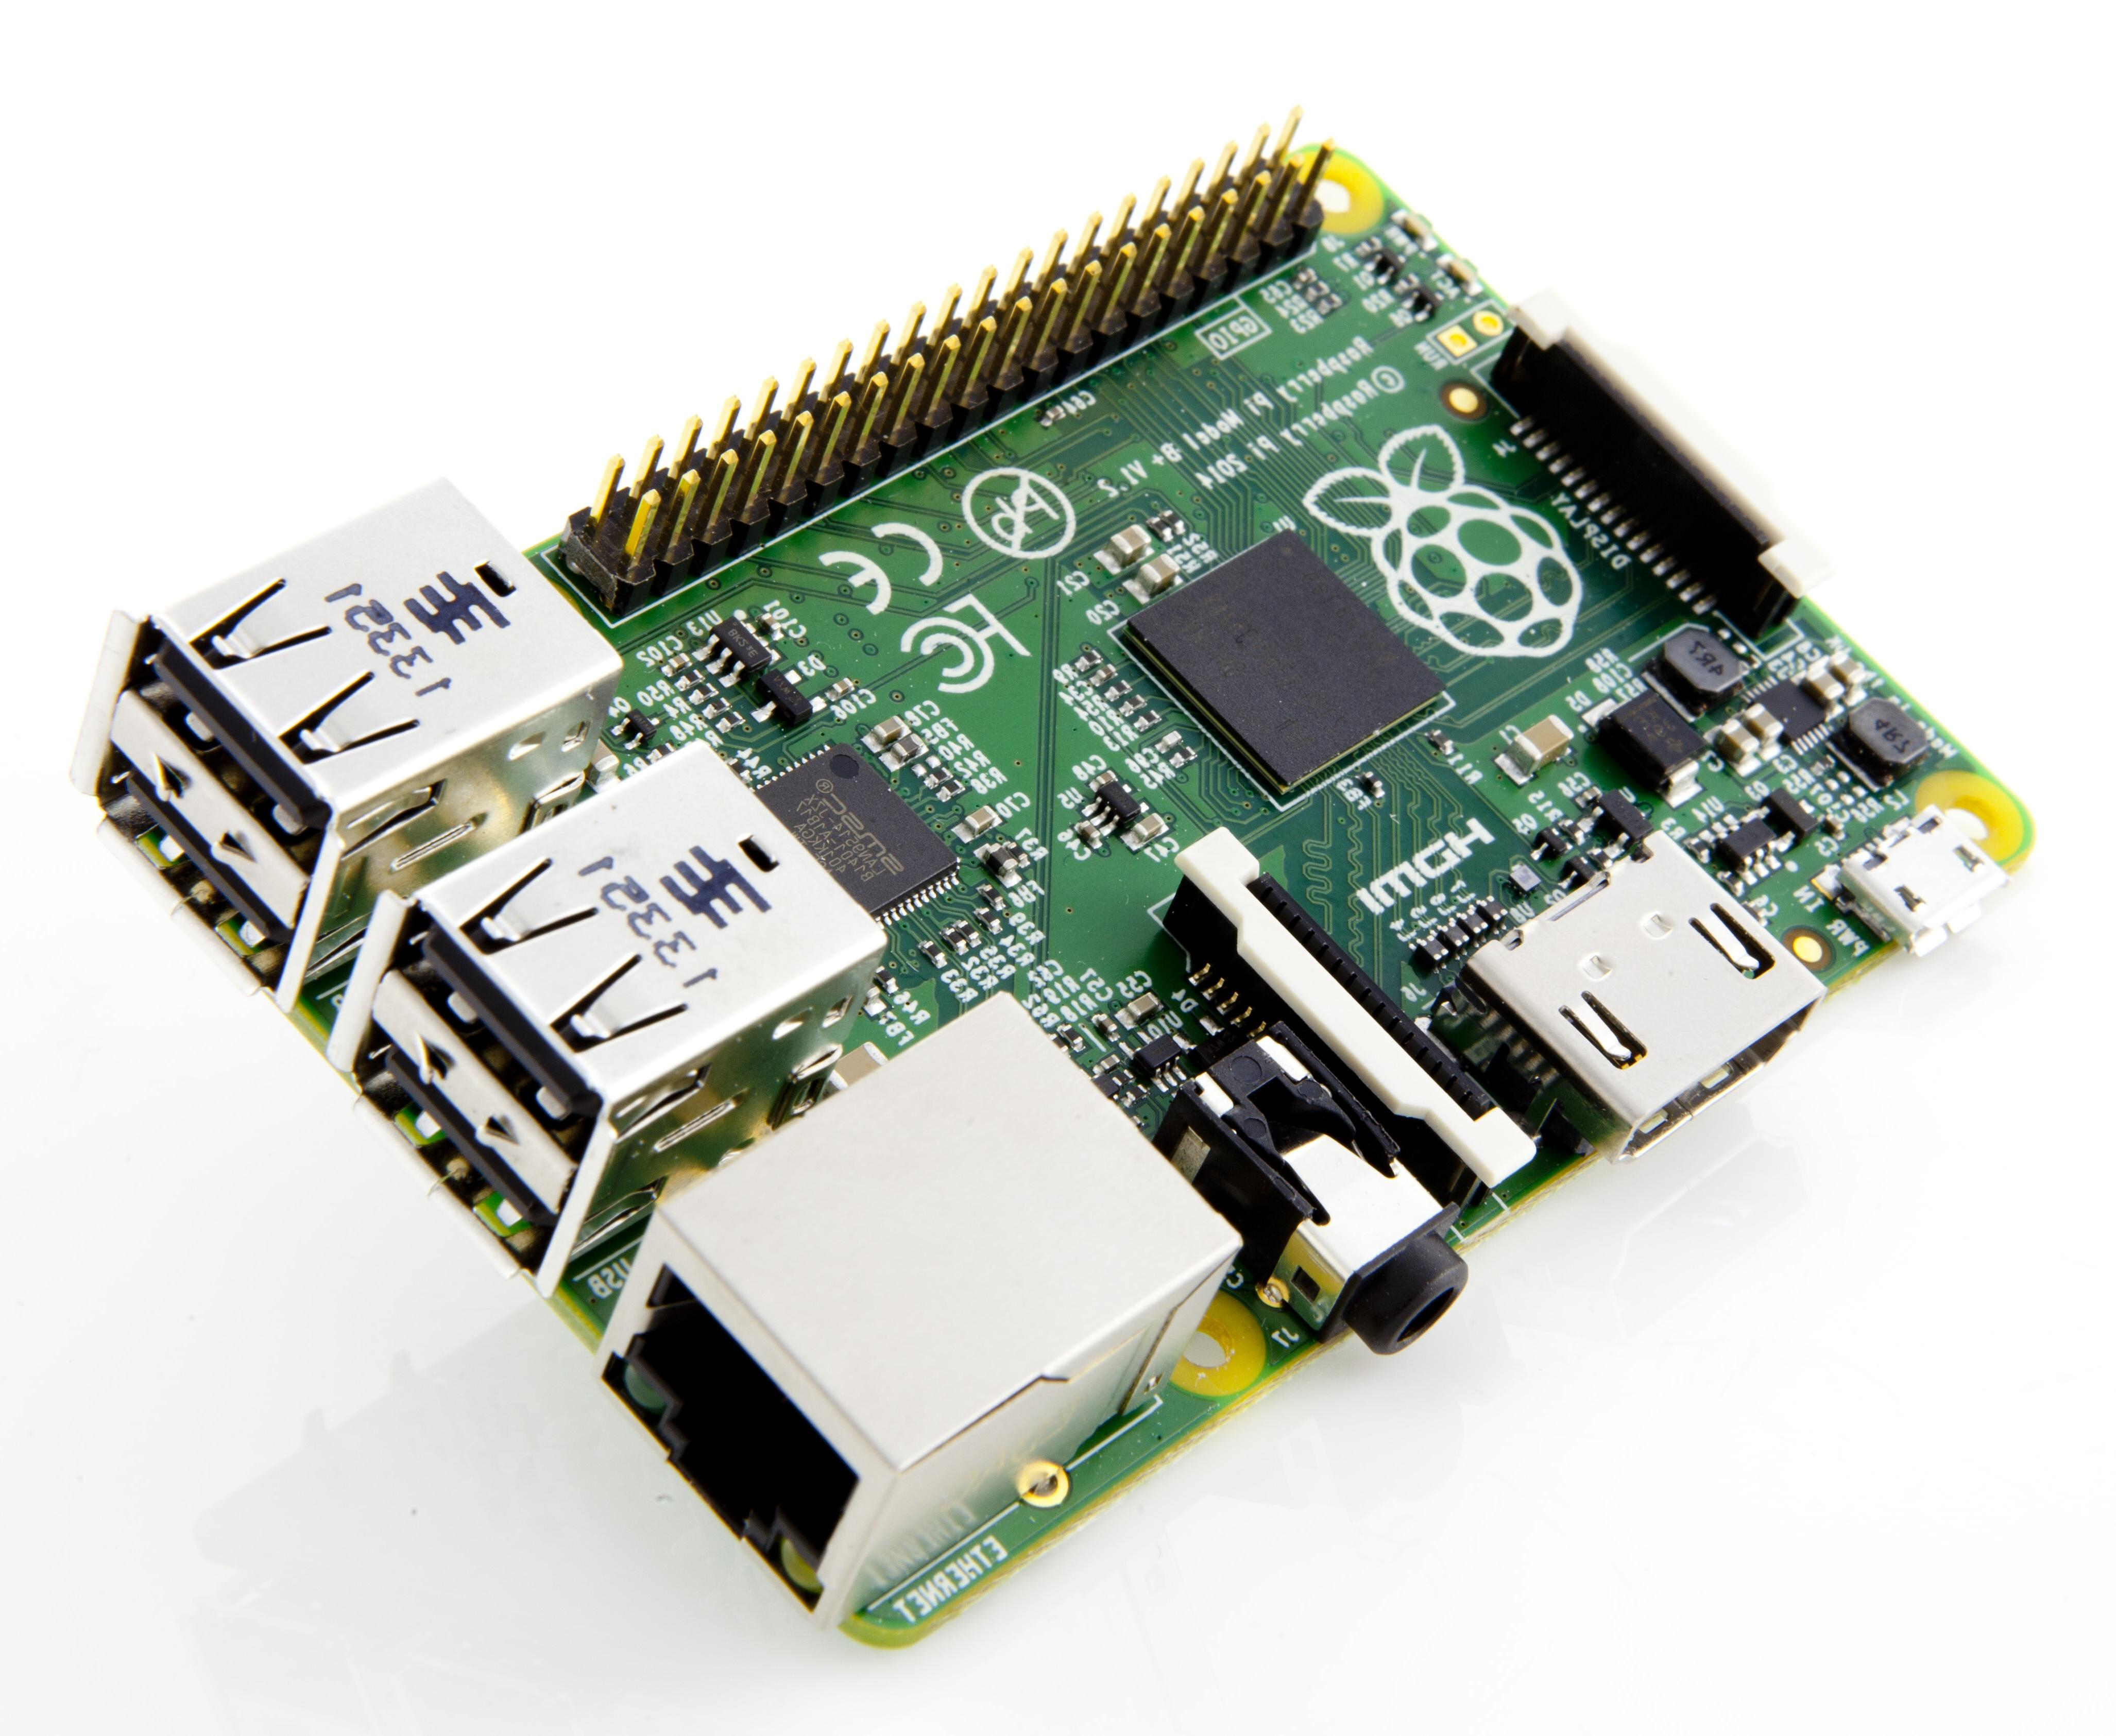audiojack: (1163, 1021, 1480, 1353)
bchi: (1127, 508, 1464, 805)
ethernet: (576, 982, 1253, 1631)
gpio: (613, 105, 1343, 536)
usb: (325, 727, 907, 1309), (76, 492, 619, 984)
